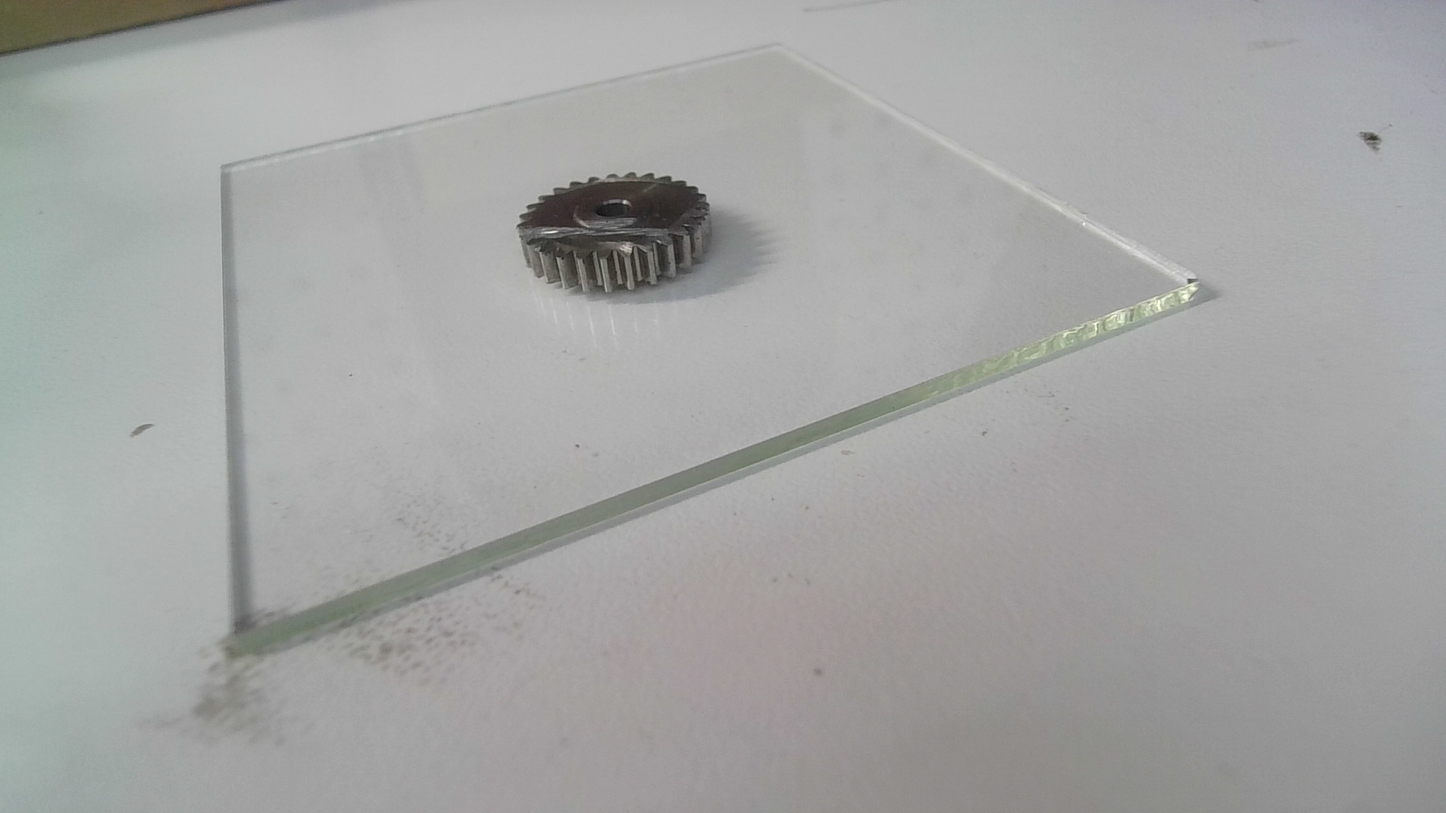gear: (516, 165, 713, 296)
